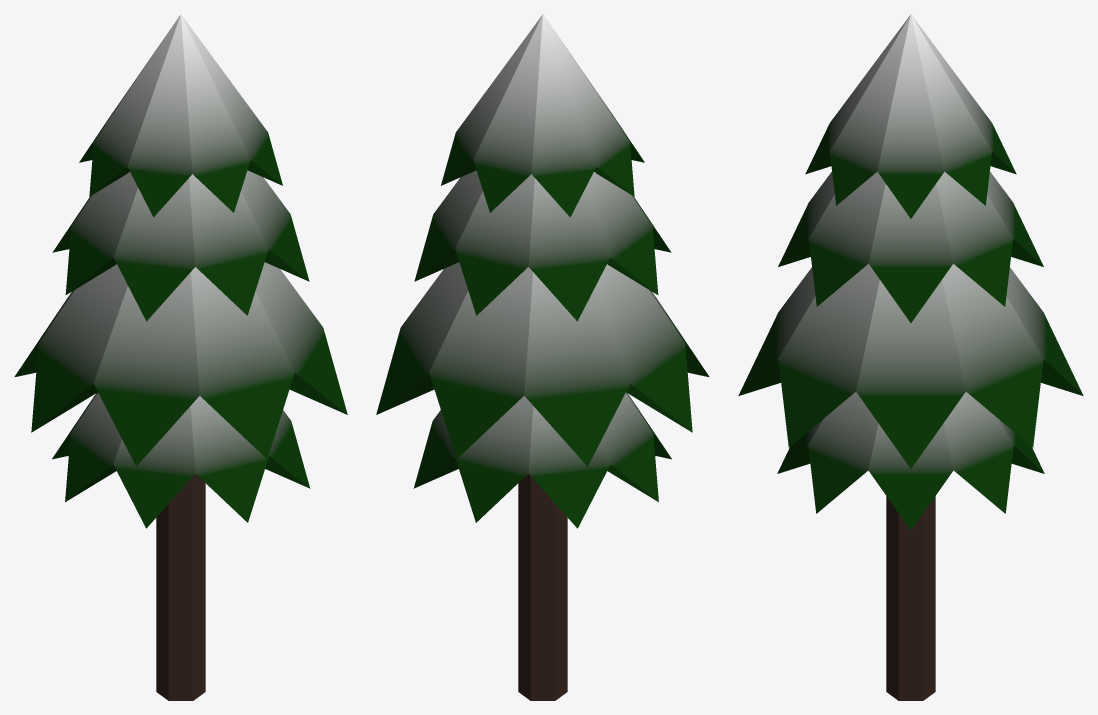
The model's file is Tree5.glb.
The picture shows the model from 3 angles, left to right: view 1: azimuth 30°, elevation 25°; view 2: azimuth 150°, elevation 25°; view 3: azimuth 270°, elevation 25°; orthographic projection.
Visible parts, largest first — view 1: Leaves5.003, Leaves5.002, Leaves5.001, Leaves5.004, Wood5; view 2: Leaves5.003, Leaves5.002, Leaves5.001, Leaves5.004, Wood5; view 3: Leaves5.003, Leaves5.002, Leaves5.001, Leaves5.004, Wood5.
Part boxes in pixels (x1,y1,x2,y2): Leaves5.003: (14,262,347,466); Leaves5.002: (52,170,309,321); Leaves5.001: (79,14,282,217); Leaves5.004: (52,392,310,528); Wood5: (156,474,205,700); Leaves5.003: (376,262,709,466); Leaves5.002: (414,170,671,321); Leaves5.001: (441,14,644,217); Leaves5.004: (413,392,671,528); Wood5: (518,474,567,700); Leaves5.003: (738,264,1083,468); Leaves5.002: (778,171,1043,322); Leaves5.001: (805,14,1016,218); Leaves5.004: (777,392,1044,530); Wood5: (886,496,935,700).
Size of the model in its own units: 10.67 by 23.1 by 10.67.
2 materials, 2 textured.
